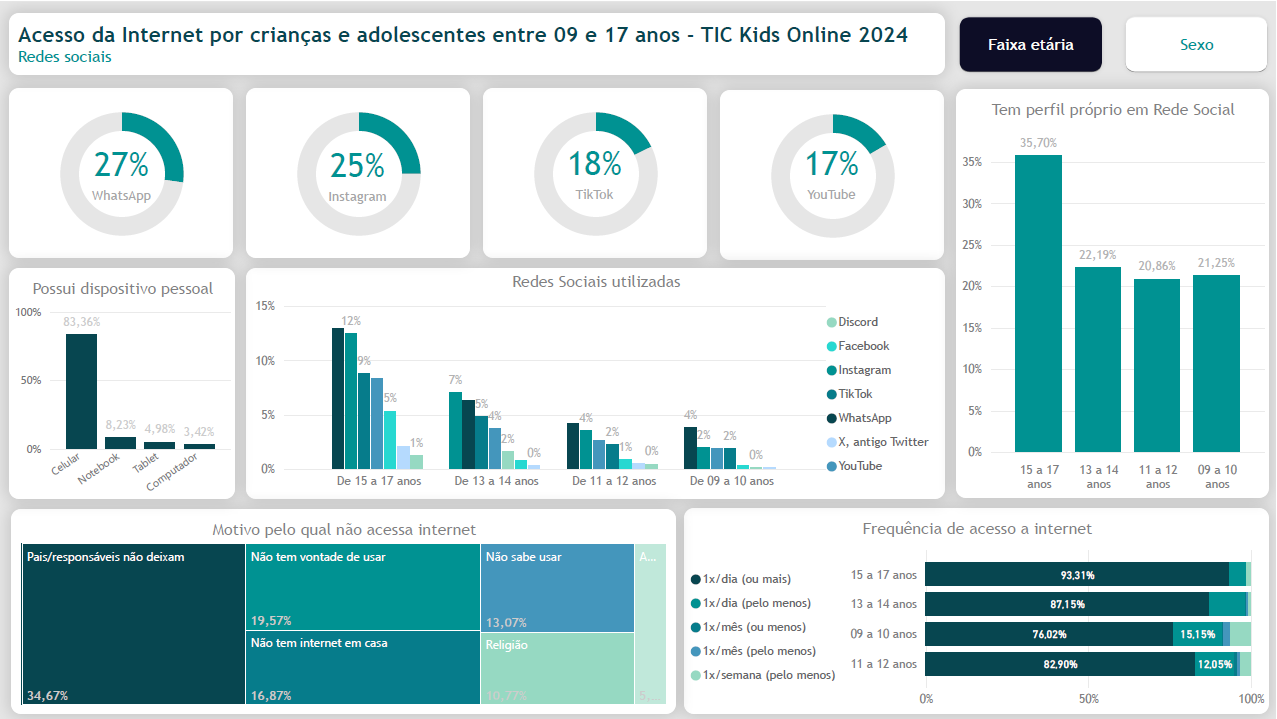

What the dashboard file says about the page in this screenshot:
{"tool":"powerbi","page":{"name":"Redes sociais","canvas":[1280,720],"ordinal":1},"visuals":[{"type":"donutChart","fields":{"Y":["Redes sociais utsadas.PctSimWpp","Redes sociais utsadas.CompWpp"]},"box":[13.3,85.7,224,170],"z":0},{"type":"donutChart","fields":{"Y":["Redes sociais utsadas.PctSimTikTok","Redes sociais utsadas.CompTiktok"]},"box":[486.8,86.1,224,170],"z":1000},{"type":"hundredPercentStackedBarChart","title":"Frequência de acesso a internet","fields":{"Category":["1 Frequencia de uso.Categoria"],"Y":["Divide(Sum(1 Frequencia de uso.Quantidade), ScopedEval(Sum(1 Frequencia de uso.Quantidade), []))"],"Series":["1 Frequencia de uso.FrequenciaUso"]},"box":[688.5,506.2,584.6,206.2],"z":2000},{"type":"donutChart","fields":{"Y":["Redes sociais utsadas.PctSimYT","Redes sociais utsadas.CompYT"]},"box":[723.5,87.5,224,170],"z":3000},{"type":"card","fields":{"Values":["Redes sociais utsadas.PctSimTikTok"]},"box":[485.8,100.8,225,135],"z":4000},{"type":"clusteredColumnChart","title":"Redes Sociais utilizadas","fields":{"Y":["Sum(Redes sociais utsadas.Valor)"],"Category":["Redes sociais utsadas.Categoria"],"Series":["Redes sociais utsadas.Rede social"]},"box":[250,266.4,699.1,230.9],"z":5000},{"type":"card","fields":{"Values":["Redes sociais utsadas.PctSimWpp"]},"box":[12.9,102.3,225,135],"z":6000},{"type":"card","fields":{"Values":["Redes sociais utsadas.PctSimPorRede"]},"box":[723.1,101.3,225,135],"z":7000},{"type":"donutChart","fields":{"Y":["Redes sociais utsadas.PctSimIg","Redes sociais utsadas.CompIg"]},"box":[250.1,86.1,224,170],"z":8000},{"type":"card","fields":{"Values":["Redes sociais utsadas.PctSimIg"]},"box":[248.5,102.7,225,135],"z":9000},{"type":"clusteredColumnChart","title":"Tem perfil próprio em Rede Social","fields":{"Category":["2a Tem perfil proprio em rede s.Categoria"],"Y":["Sum(2a Tem perfil proprio em rede s.Valor)"]},"box":[960.2,87.2,312.7,409.1],"z":10000},{"type":"treemap","title":"Motivo pelo qual não acessa internet","fields":{"Group":["1 MotivoNaoAcessar.MotivoNaoAcessar"],"Values":["Sum(1 MotivoNaoAcessar.Quantidade)"]},"box":[14.6,506.9,665.4,205.4],"z":12000},{"type":"columnChart","title":"Possui dispositivo pessoal","fields":{"Category":["1 PossuiDispositivo1.DispositivoPessoal"],"Y":["Sum(1 PossuiDispositivo1.Quantidade)"]},"box":[12.5,266.5,226.4,230.9],"z":13000},{"type":"textbox","box":[12.9,11.4,935.7,61.4],"z":14000},{"type":"advancedSlicerVisual","fields":{"Values":["1 Ja acessou internet.TipoCategoria"]},"box":[956.6,8.3,323.4,68.8],"z":14001}]}

Visuals, with their boxes in screenshot pixels (x1, y1, x2, y2), scaled from the page's 1280x720 canvas onto the 1277x719 screenshot:
donutChart - Redes sociais utsadas.PctSimWpp x Redes sociais utsadas.CompWpp: <region>13, 86, 237, 255</region>
donutChart - Redes sociais utsadas.PctSimTikTok x Redes sociais utsadas.CompTiktok: <region>486, 86, 709, 256</region>
"Frequência de acesso a internet" hundredPercentStackedBarChart: <region>687, 505, 1270, 711</region>
donutChart - Redes sociais utsadas.PctSimYT x Redes sociais utsadas.CompYT: <region>722, 87, 945, 257</region>
card - Redes sociais utsadas.PctSimTikTok: <region>485, 101, 709, 235</region>
"Redes Sociais utilizadas" clusteredColumnChart: <region>249, 266, 947, 497</region>
card - Redes sociais utsadas.PctSimWpp: <region>13, 102, 237, 237</region>
card - Redes sociais utsadas.PctSimPorRede: <region>721, 101, 946, 236</region>
donutChart - Redes sociais utsadas.PctSimIg x Redes sociais utsadas.CompIg: <region>250, 86, 473, 256</region>
card - Redes sociais utsadas.PctSimIg: <region>248, 103, 472, 237</region>
"Tem perfil próprio em Rede Social" clusteredColumnChart: <region>958, 87, 1270, 496</region>
"Motivo pelo qual não acessa internet" treemap: <region>15, 506, 678, 711</region>
"Possui dispositivo pessoal" columnChart: <region>12, 266, 238, 497</region>
textbox: <region>13, 11, 946, 73</region>
advancedSlicerVisual - 1 Ja acessou internet.TipoCategoria: <region>954, 8, 1276, 77</region>
